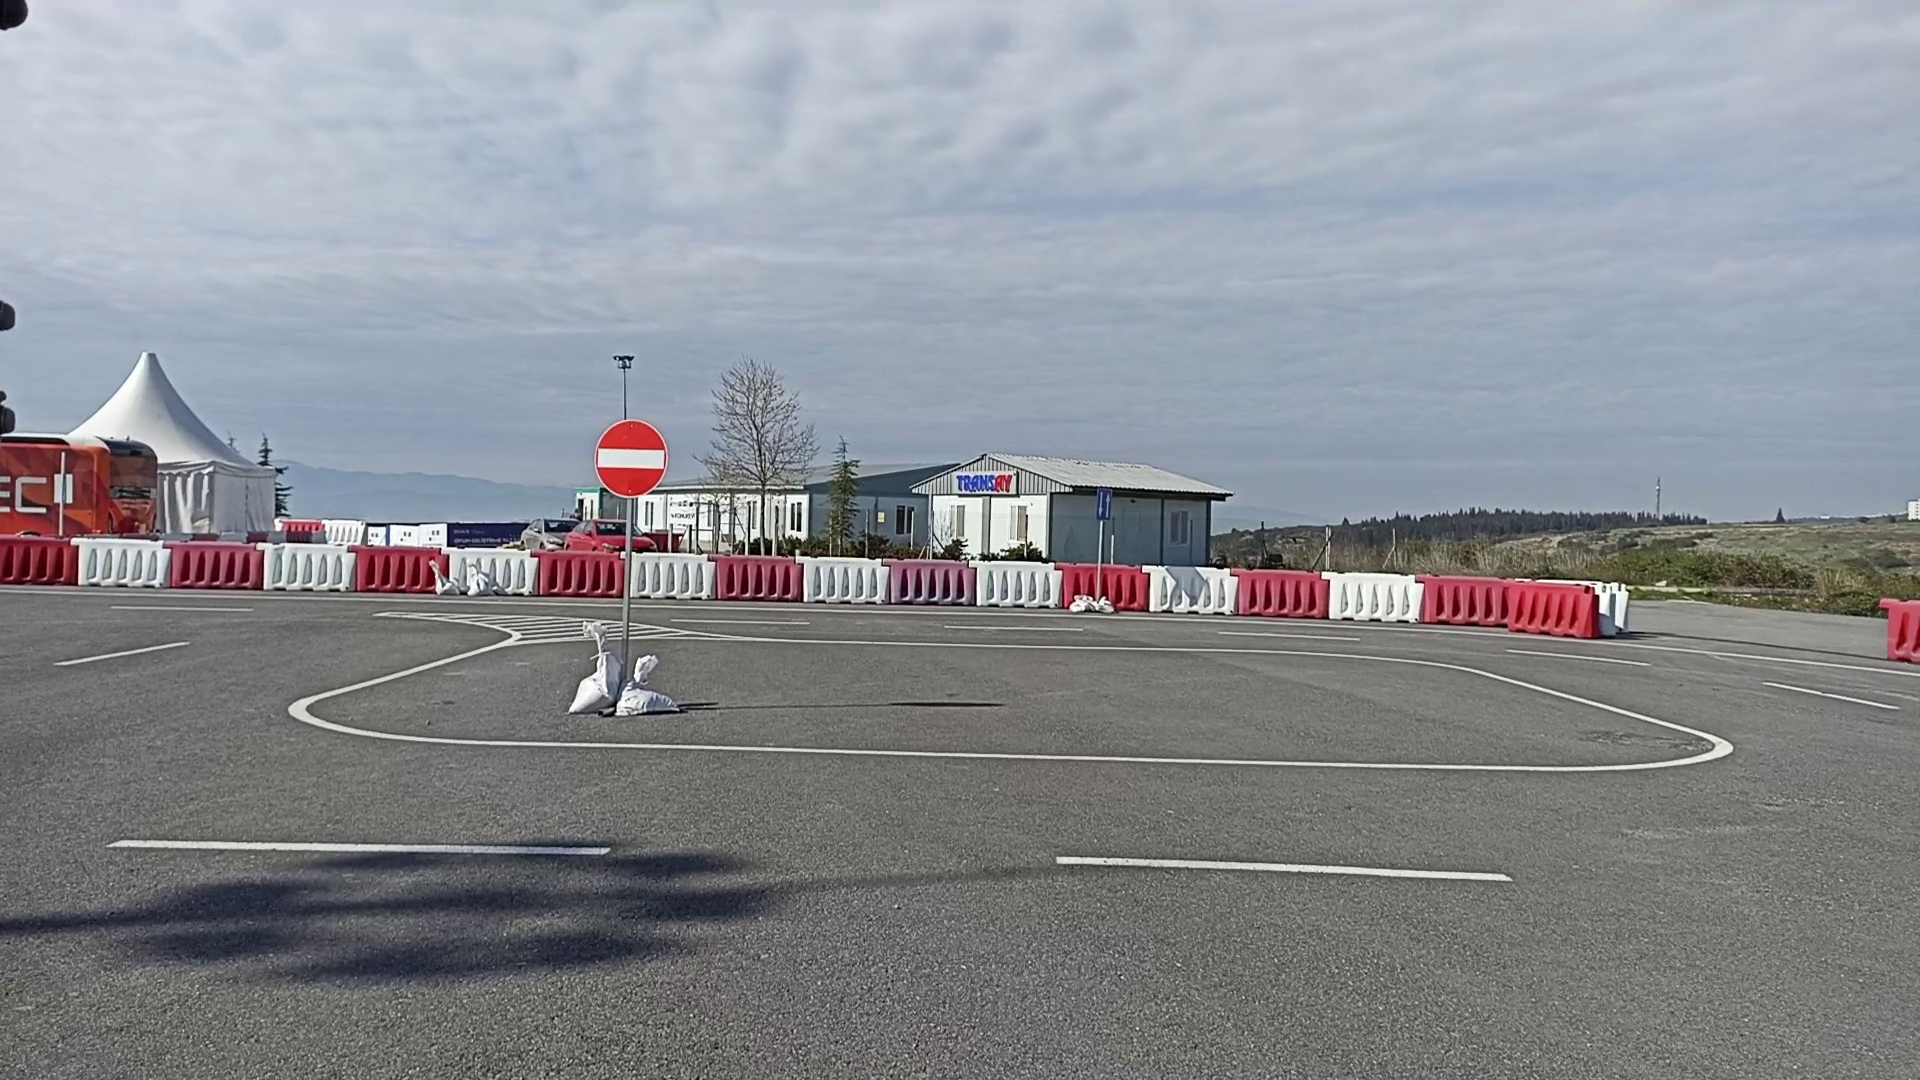noentryway: (592, 418, 669, 501)
